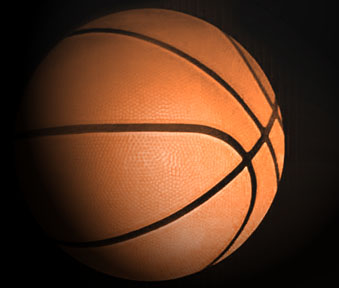basketball: (22, 8, 286, 279)
